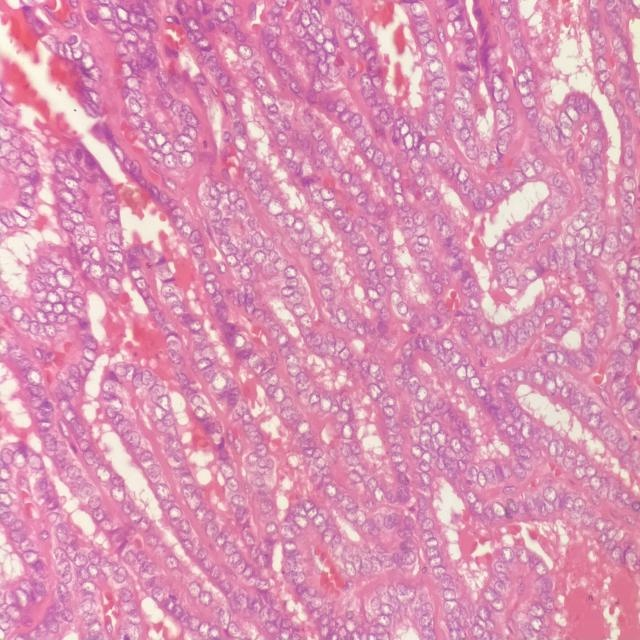TC: (145, 251, 187, 291), (44, 145, 77, 183), (113, 353, 146, 386), (274, 354, 309, 384), (422, 129, 450, 166), (405, 201, 435, 235), (503, 220, 529, 255), (490, 103, 520, 129), (314, 177, 339, 208), (175, 144, 198, 176), (514, 153, 538, 182), (450, 92, 478, 115), (419, 36, 444, 61), (287, 297, 312, 322), (200, 340, 224, 366), (123, 91, 145, 118), (561, 97, 583, 124), (349, 18, 370, 46), (266, 195, 288, 221), (452, 358, 472, 386), (393, 297, 412, 323), (248, 225, 266, 250), (90, 258, 107, 282)
